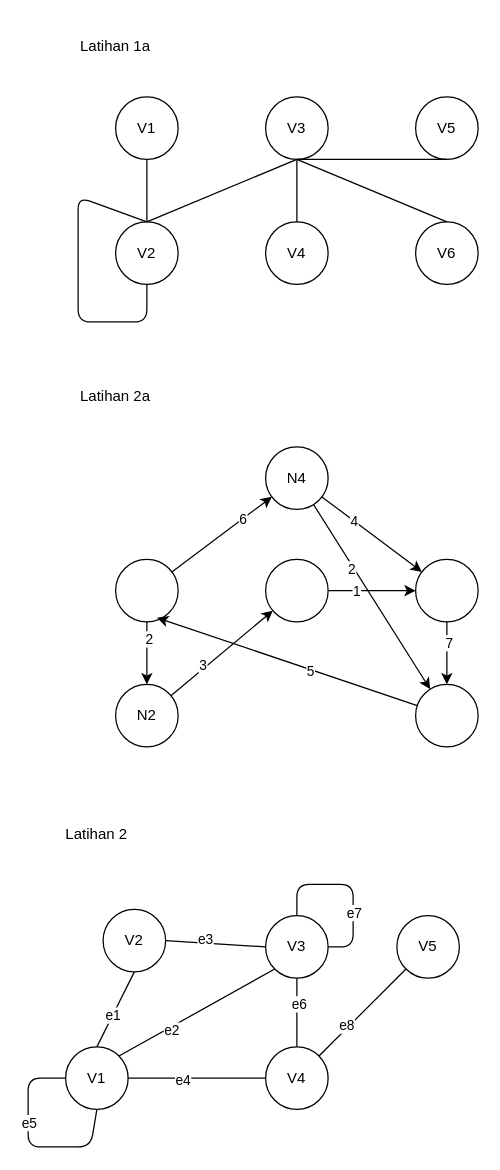
The diagram is 500 pixels wide and 1170 high, and some of its shapes have lost their labels. The centre of each missing label's shape, as x and y in pixels:
"N1" belongs at (146,590).
"N3" belongs at (296,590).
"N5" belongs at (446,590).
"N6" belongs at (446,715).
